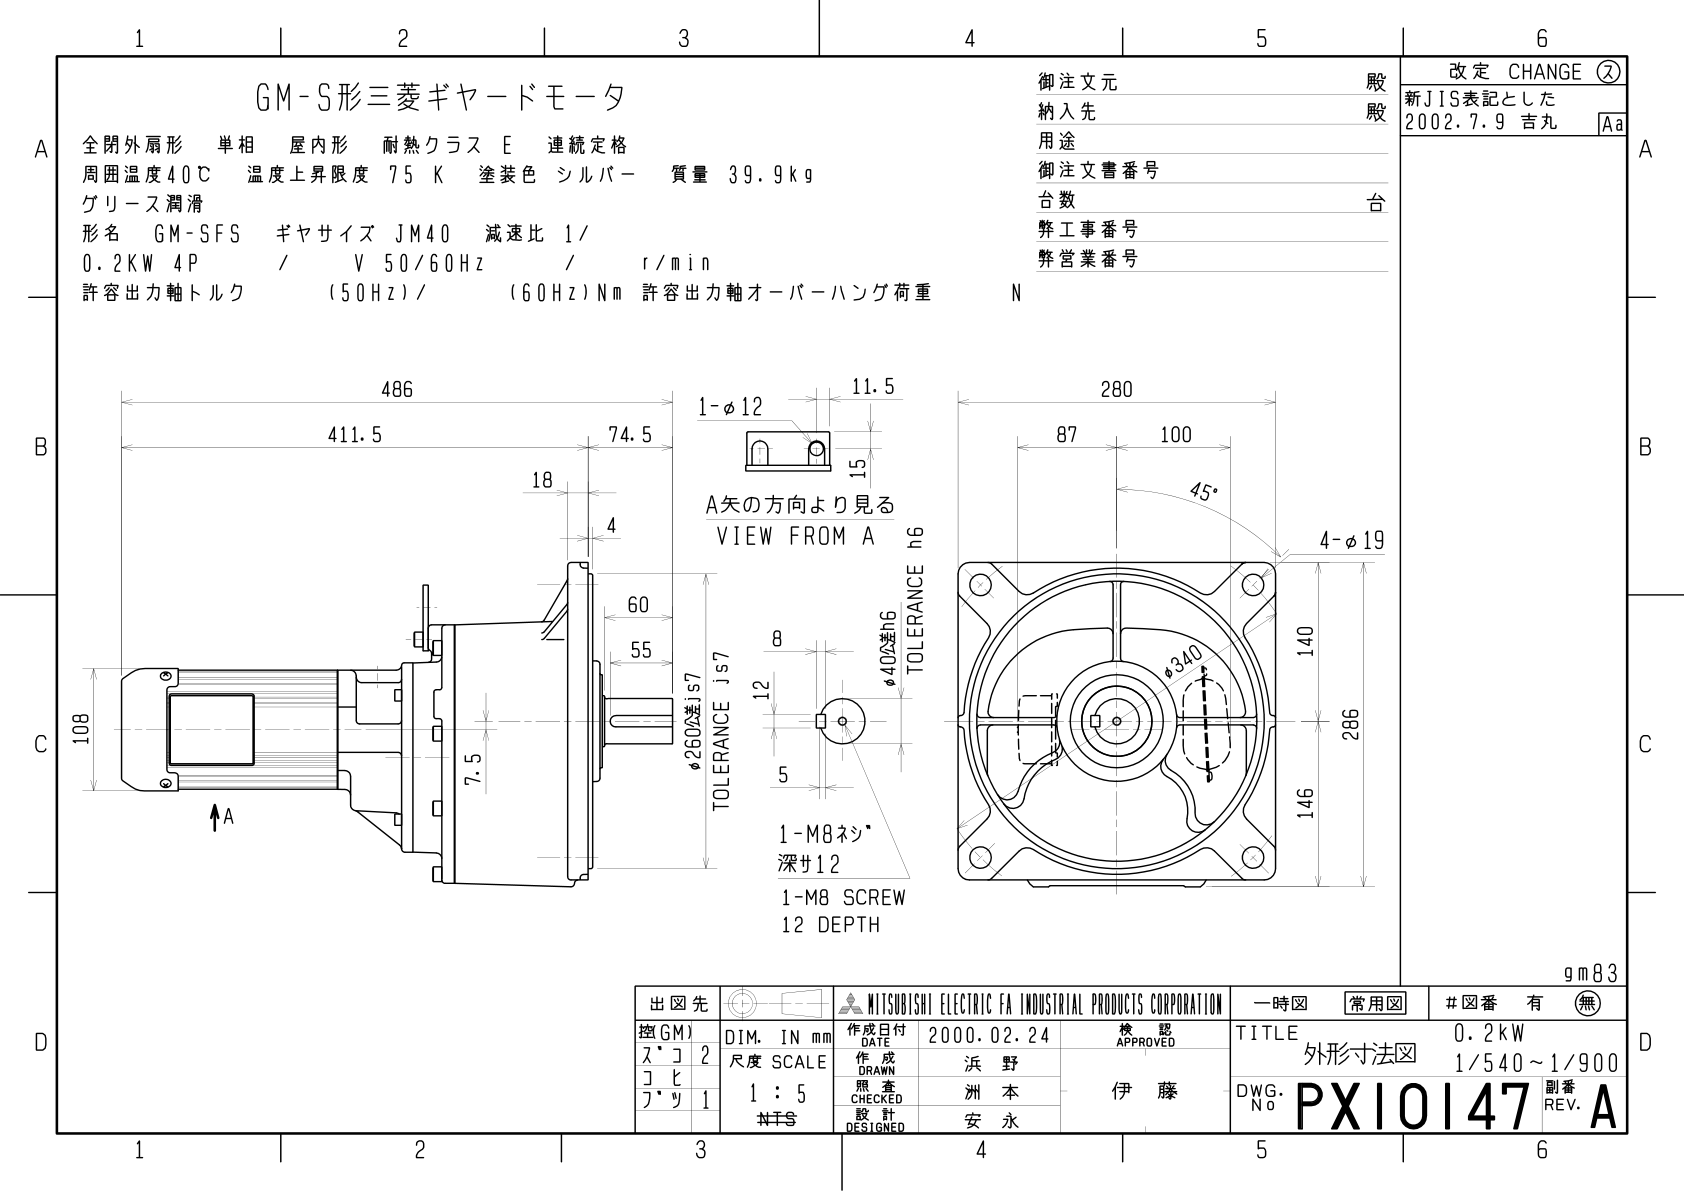GM_S_屋内＿単相_フランジ: (1, 6, 1684, 1191)
